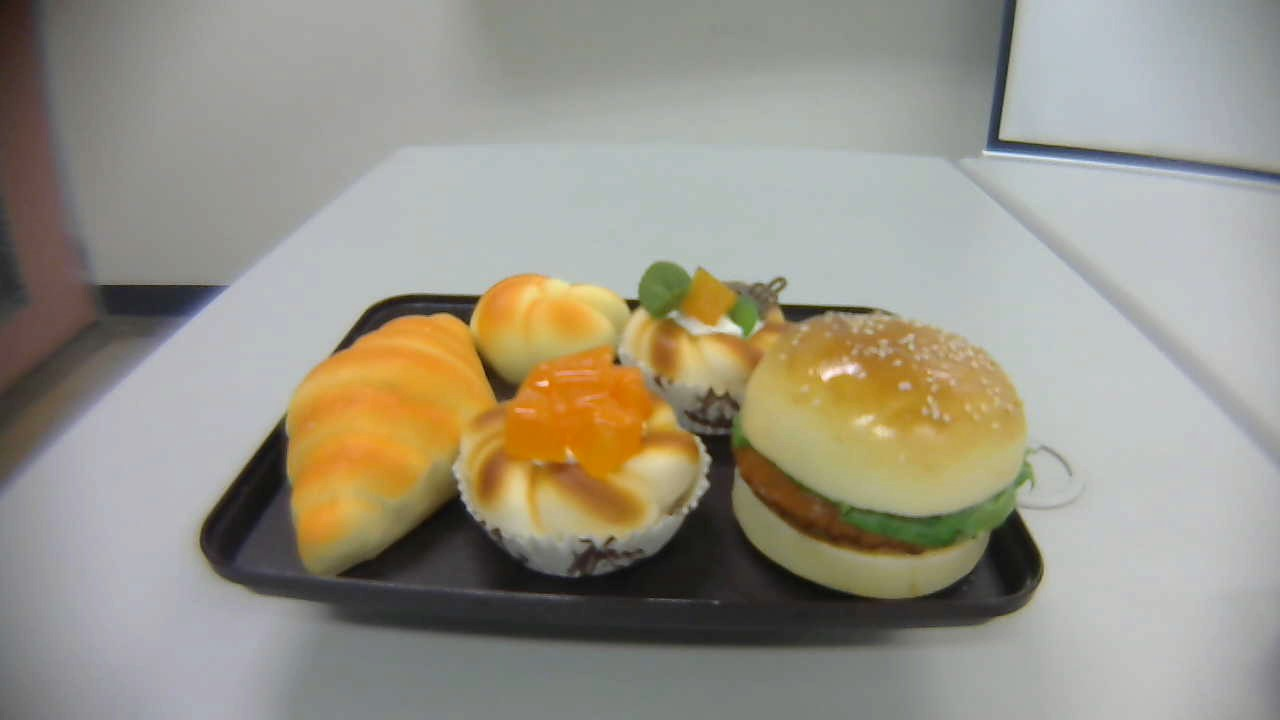croissant: (285, 314, 498, 582)
fruit tart: (620, 261, 791, 436)
hamburger: (731, 309, 1037, 599)
mango tart: (453, 346, 712, 578)
twist bread: (470, 273, 633, 384)
